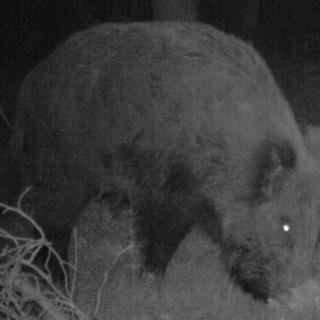Pig: (12, 16, 320, 305)
